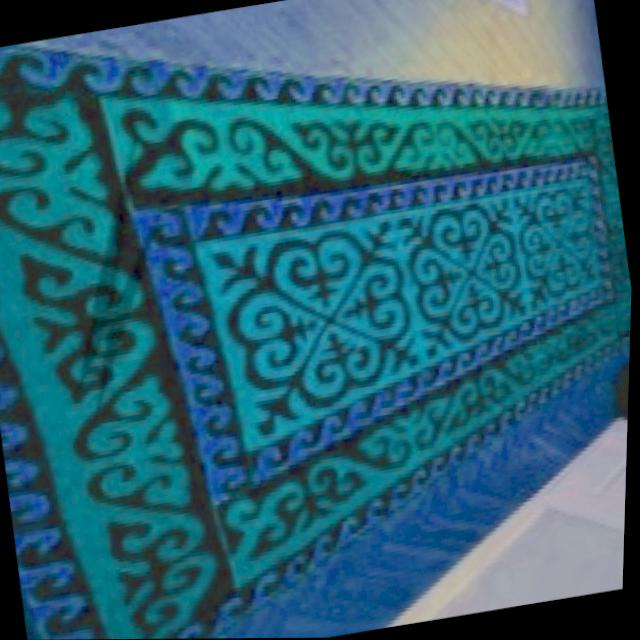Unity: (205, 210, 424, 447), (396, 194, 530, 363), (520, 180, 598, 302)
